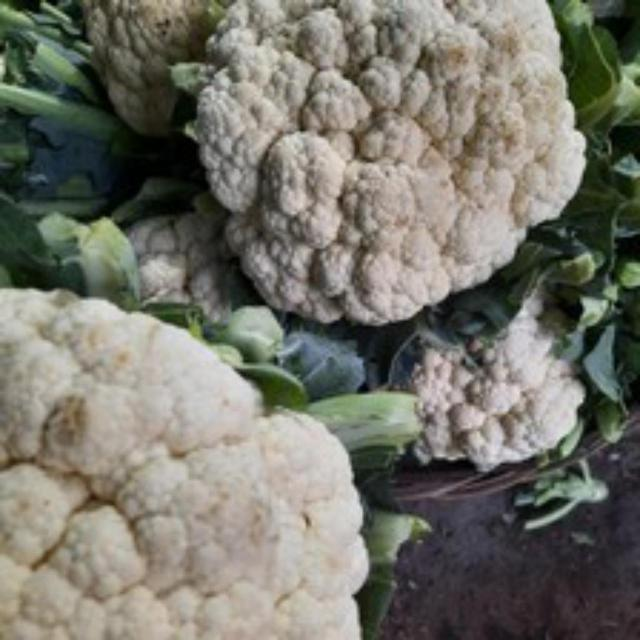cauliflower: (0, 262, 382, 637), (182, 0, 614, 320)
